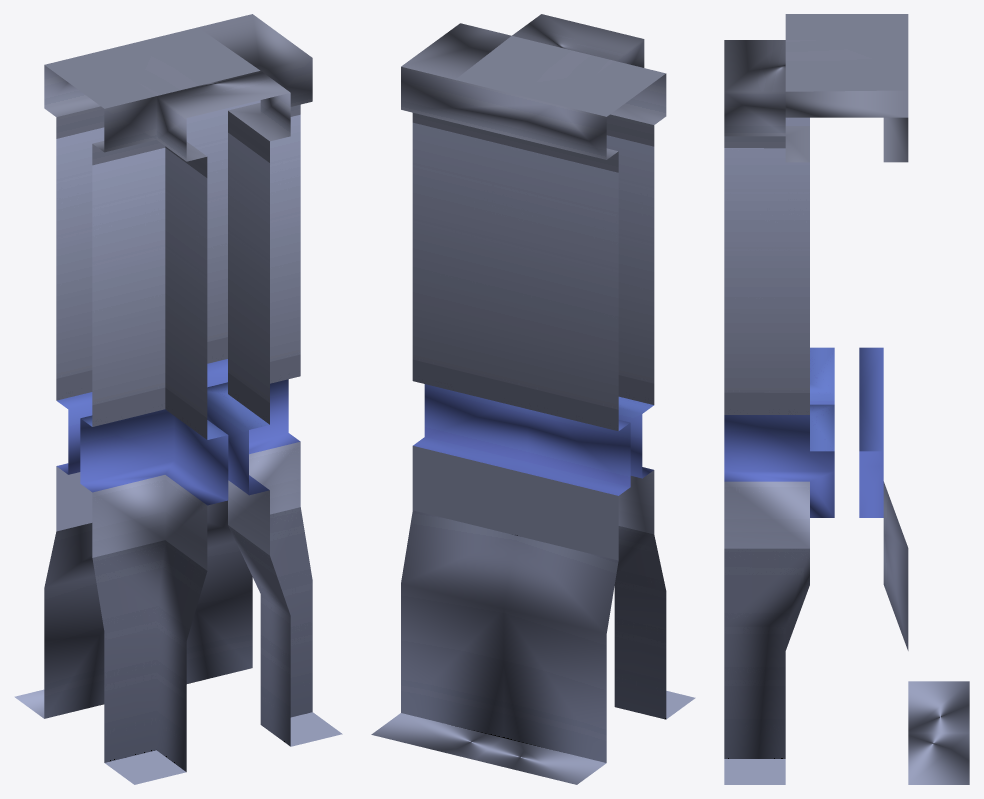
Rendered from wall-T.glb.
3 views of the same model, side by side, from view 1: azimuth 30°, elevation 25°; view 2: azimuth 150°, elevation 25°; view 3: azimuth 270°, elevation 25° (orthographic). The views are drawn at different scales.
Visible parts, largest first — view 1: wall-T; view 2: wall-T; view 3: wall-T.
Part boxes in pixels (left/top/right/bottom): wall-T: left=14, top=14, right=342, bottom=784; wall-T: left=371, top=14, right=695, bottom=784; wall-T: left=724, top=14, right=969, bottom=784.
Size of the model in its own units: 1 by 3 by 1.
2 materials, 2 textured.
